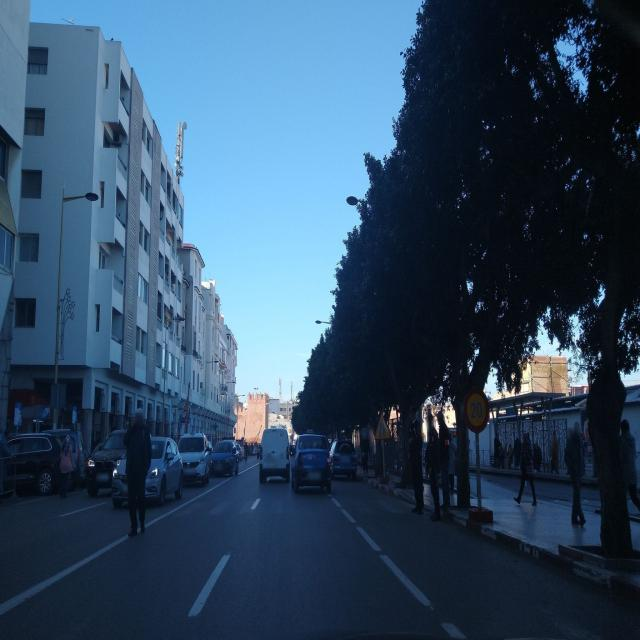car: (112, 434, 183, 506), (111, 429, 163, 509), (2, 431, 62, 497), (86, 427, 127, 498), (140, 435, 182, 504), (44, 426, 85, 490), (291, 432, 332, 495), (258, 425, 290, 484), (178, 432, 210, 487), (329, 438, 358, 481), (210, 438, 239, 477), (257, 442, 262, 458)
